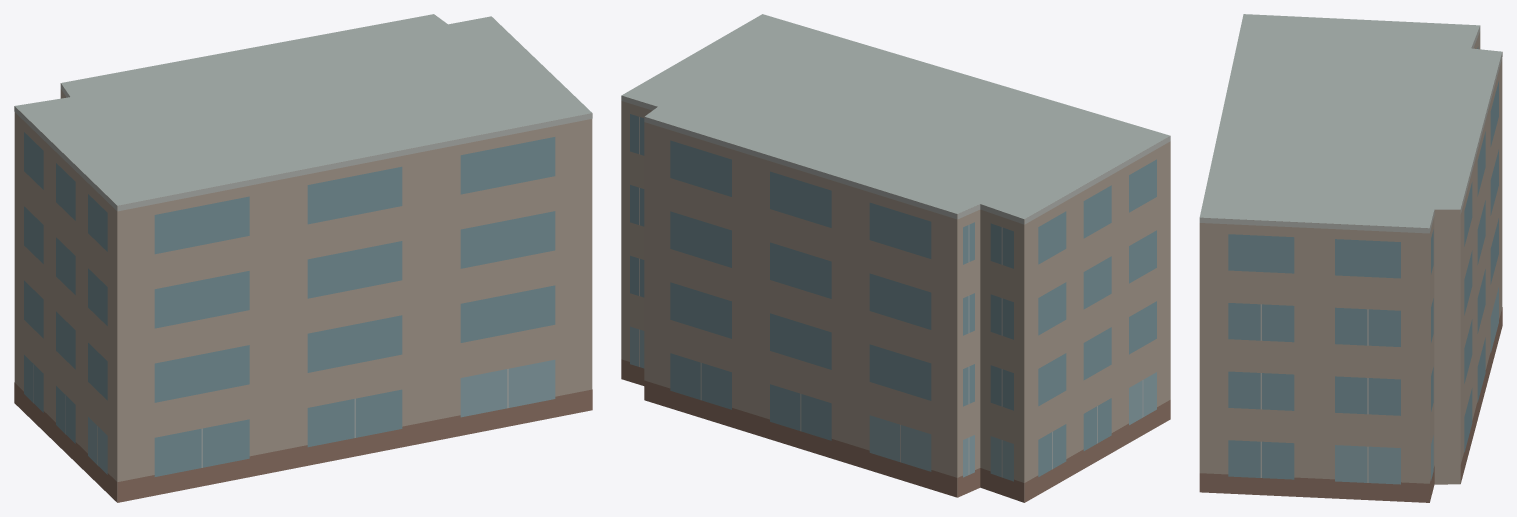
Rendered from survey-upis-32679902.glb.
The picture shows the model from 3 angles, left to right: view 1: azimuth 30°, elevation 25°; view 2: azimuth 150°, elevation 25°; view 3: azimuth 270°, elevation 25°; orthographic projection. The views are drawn at different scales.
Parts seen in each view (by area): view 1: survey-upis-32679902.tmp; view 2: survey-upis-32679902.tmp; view 3: survey-upis-32679902.tmp.
Boxes of the visible parts, x1,y1,x2,y2 form: survey-upis-32679902.tmp: (14, 14, 592, 502); survey-upis-32679902.tmp: (621, 14, 1170, 502); survey-upis-32679902.tmp: (1199, 14, 1502, 502).
Bounding box in the file's own units: 21.25 × 12.7 × 12.7.
